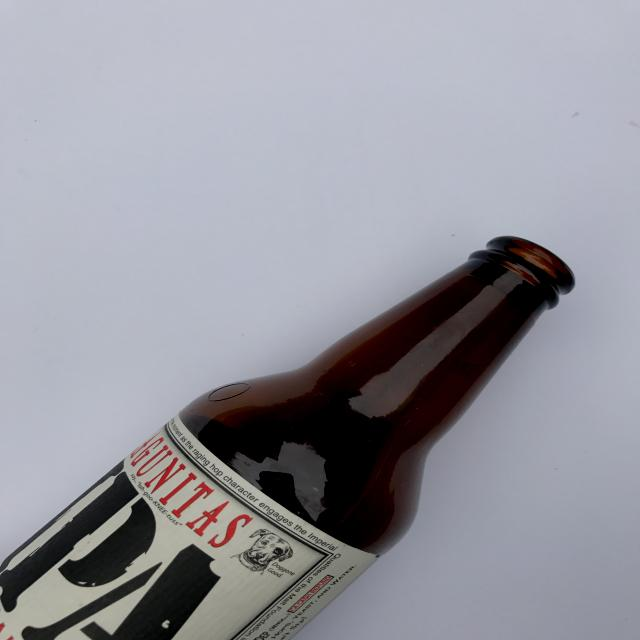Glass: (0, 232, 586, 640)
